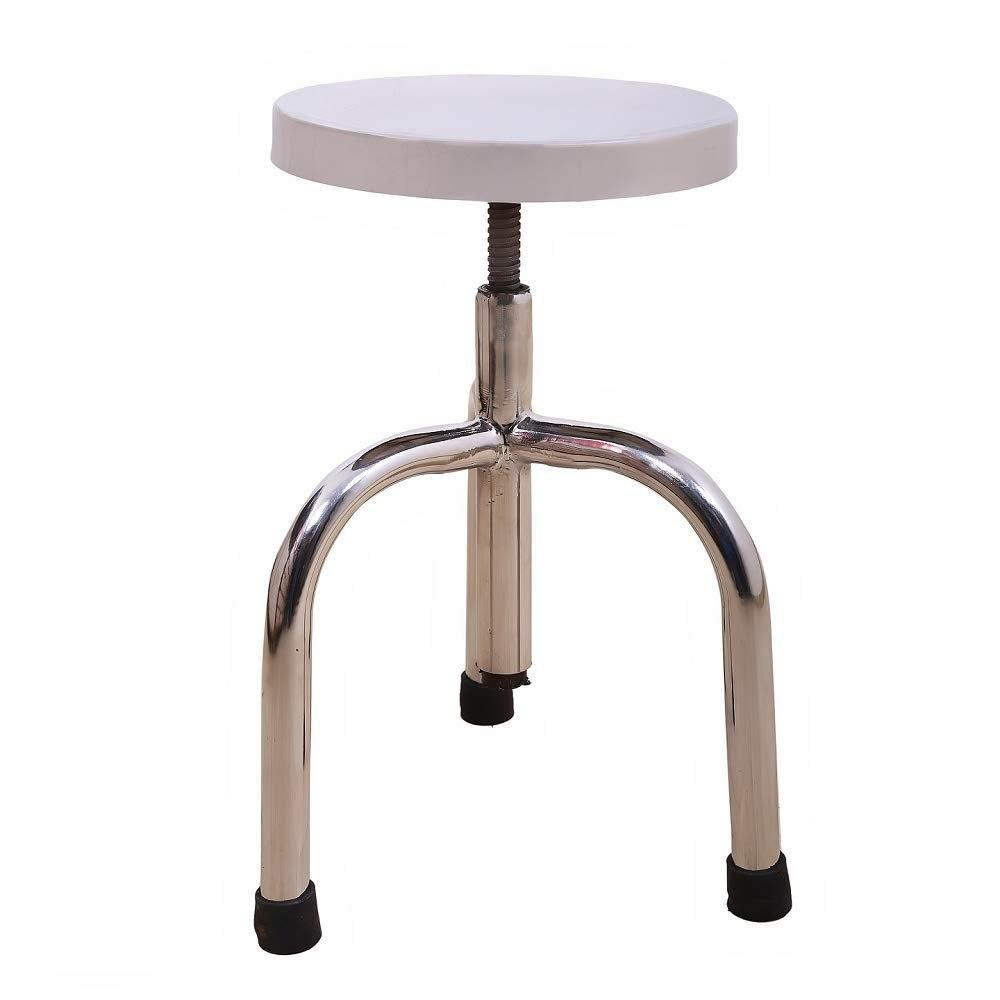stool: (253, 70, 793, 954)
